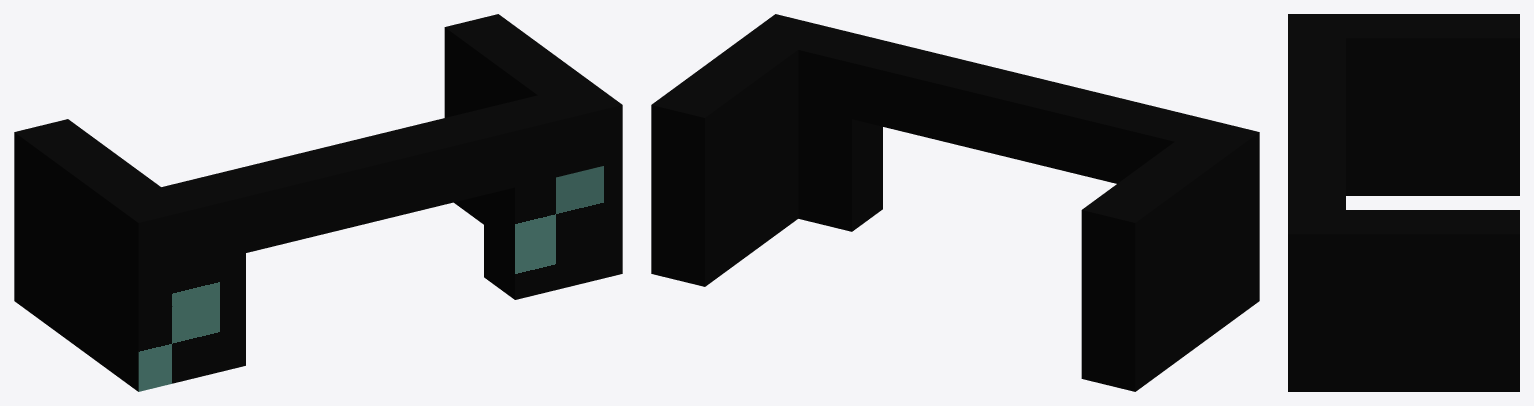
File: glasses.glb
The picture shows the model from 3 angles, left to right: view 1: azimuth 30°, elevation 25°; view 2: azimuth 150°, elevation 25°; view 3: azimuth 270°, elevation 25°; orthographic projection. The views are drawn at different scales.
Parts seen in each view (by area): view 1: Glasses; view 2: Glasses; view 3: Glasses.
Part boxes in pixels (x1=…): Glasses: x1=14, y1=14, x2=622, y2=391; Glasses: x1=651, y1=14, x2=1259, y2=391; Glasses: x1=1288, y1=14, x2=1519, y2=391.
Size of the model in its own units: 1.8 by 0.6 by 0.8.
Materials: 1 (1 with a texture image).
